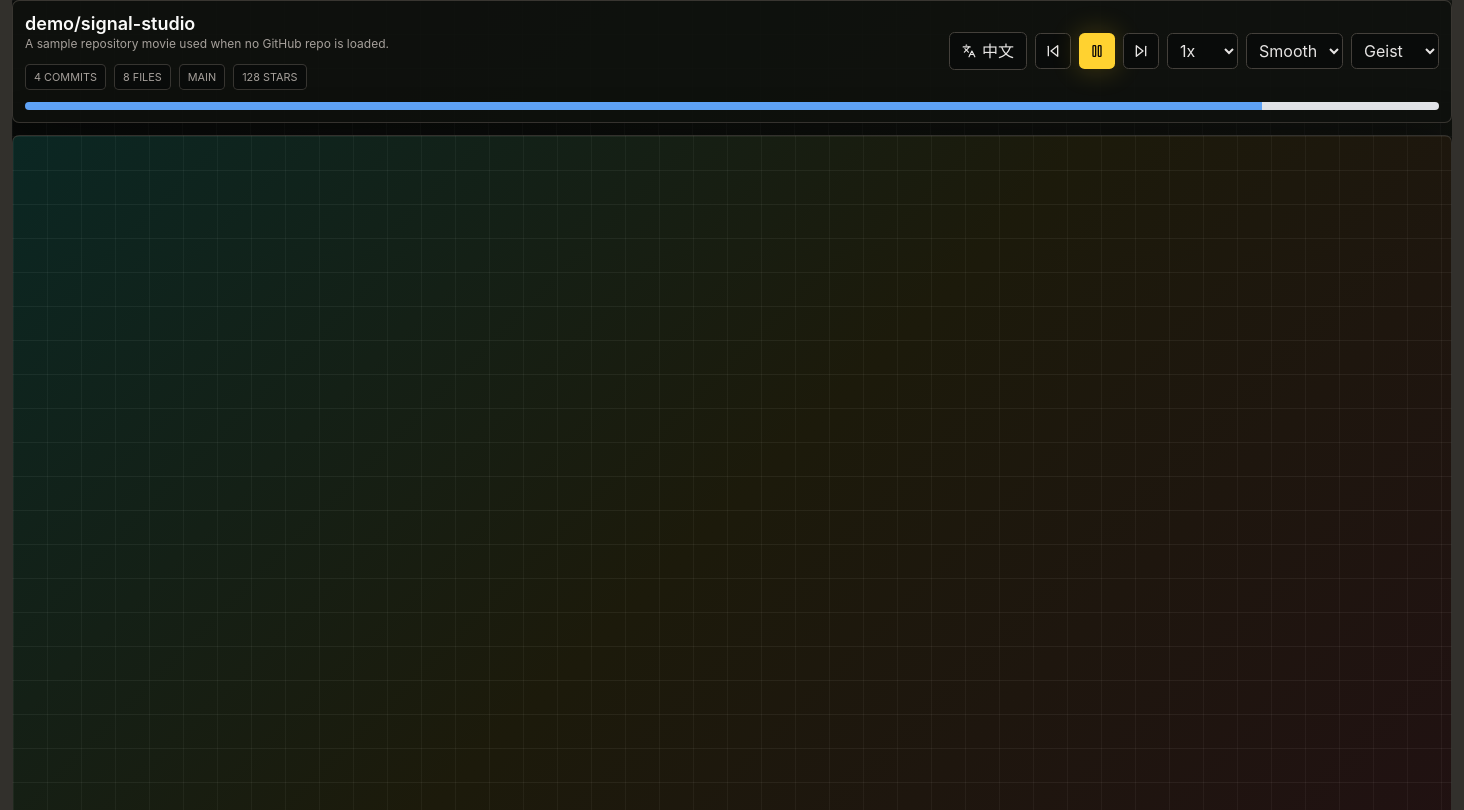
Test: MoviePlayer › switches core player labels between English and Chinese
Expected: the element named "Language" is shown, [949,32,1027,70]
Click the button with aria-label "Switch to Chinese" at (988, 51), box [954,37,1022,65]
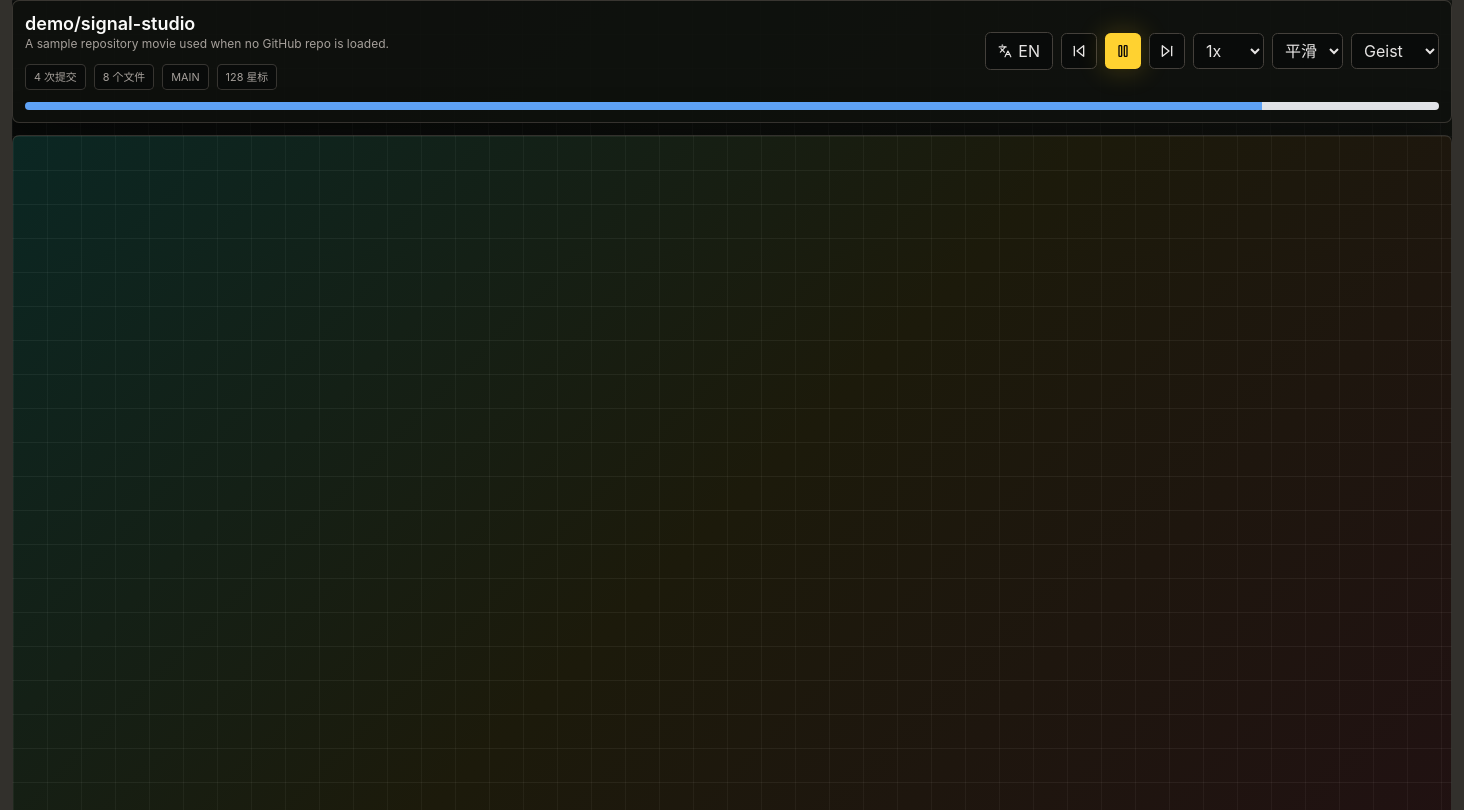
Expected: the button with aria-label "切换到英文" is shown, [990,37,1048,65]
